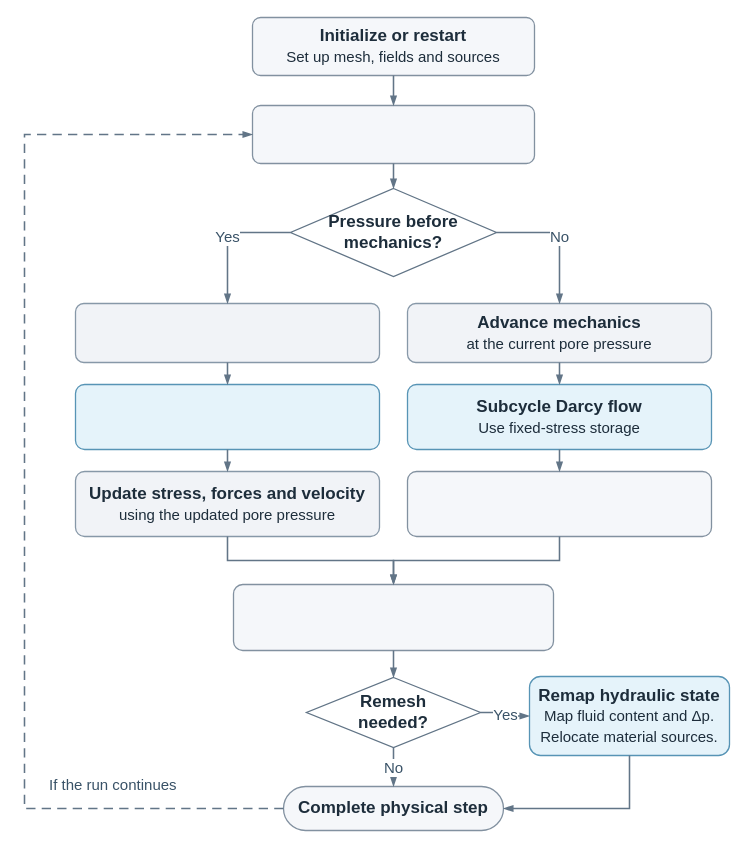
Some shapes in this 748 by 849 pixel diagram are drawn without their labels. The centre of each missing label's shape, as x and y in pixels:
Carry the pressure increment into the next mechanical step: the point at 559,503
Project volumetric strain rate from the current velocity: the point at 227,332
Start physical step Use current fields and source positions: the point at 393,134
Subcycle Darcy flow Add strain source when feedback is on: the point at 227,416
Update mesh and timestep Write output and checkpoint when due: the point at 393,617
